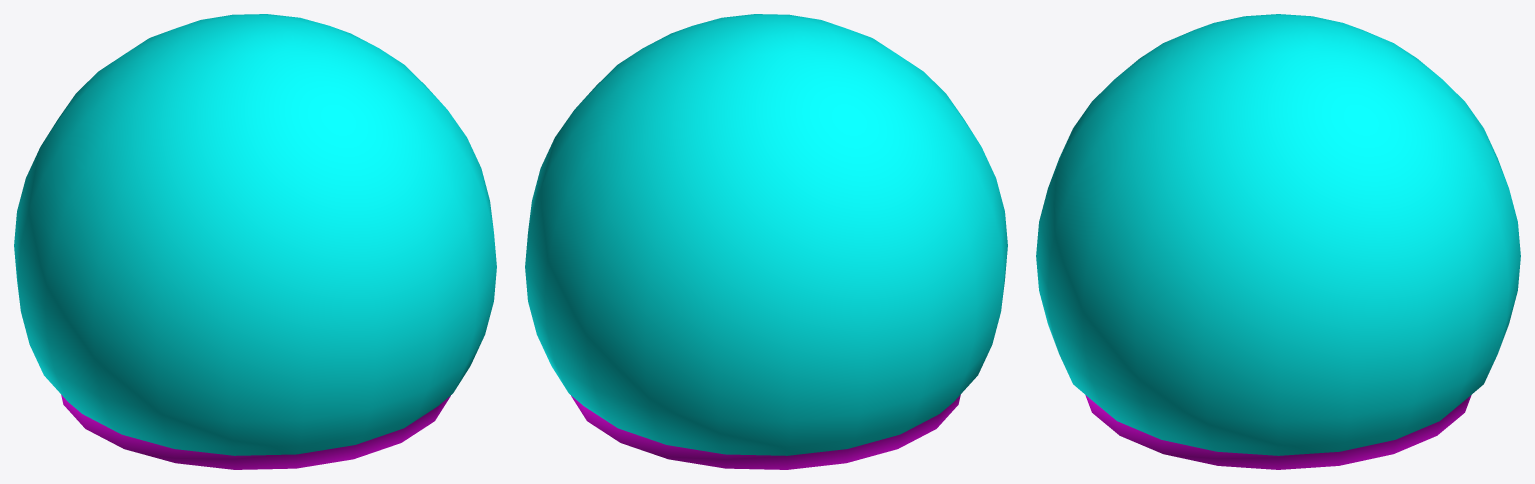
Rendered from Esfera.fbx.
3 views of the same model, side by side, from view 1: azimuth 30°, elevation 25°; view 2: azimuth 150°, elevation 25°; view 3: azimuth 270°, elevation 25° (orthographic).
Parts seen in each view (by area): view 1: pSphere1; view 2: pSphere1; view 3: pSphere1.
Part boxes in pixels (box(x1,y1,x2,y2)): pSphere1: box(14, 14, 496, 469); pSphere1: box(525, 14, 1007, 469); pSphere1: box(1036, 14, 1520, 469).
Size of the model in its own units: 2 by 1.6 by 2.
